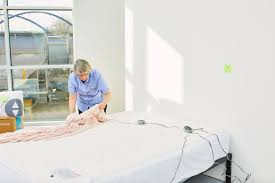bed-matress: (1, 110, 231, 183)
